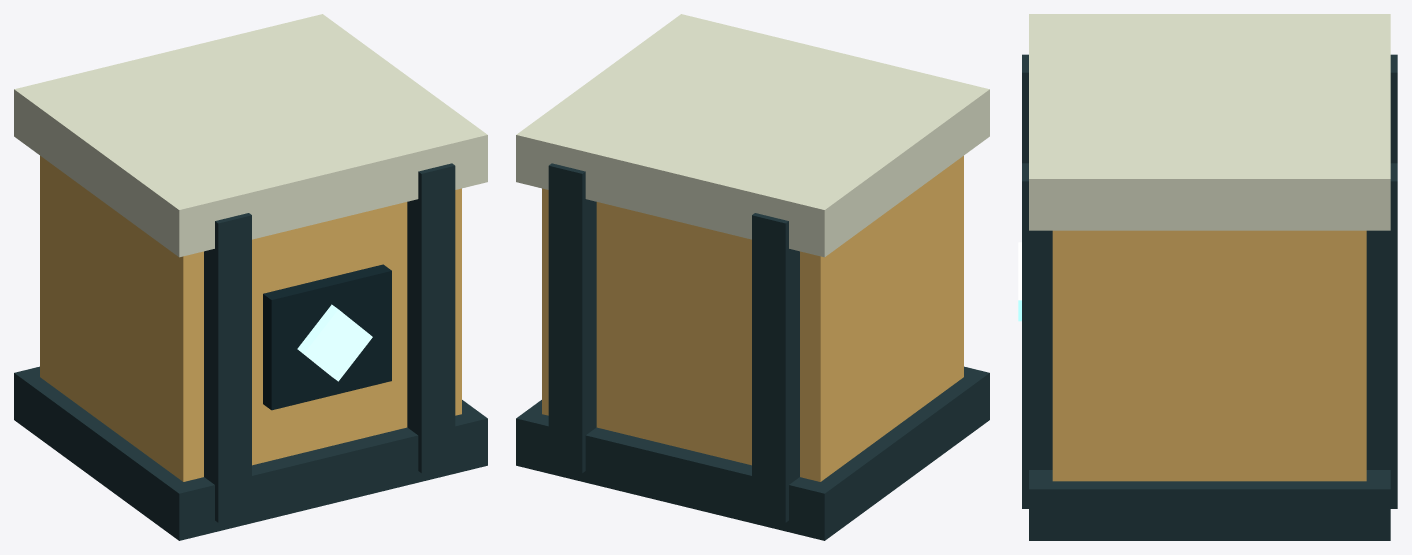
The model's file is cargo-crate.glb.
3 views of the same model, side by side, from view 1: azimuth 30°, elevation 25°; view 2: azimuth 150°, elevation 25°; view 3: azimuth 270°, elevation 25° (orthographic). The views are drawn at different scales.
Parts seen in each view (by area): view 1: lid, body, base, strap-1, strap--1, cargo-panel, cargo-mark; view 2: body, lid, base, strap-1, strap--1; view 3: body, lid, base, strap-1, strap--1.
Part boxes in pixels (x1,y1,x2,y2): lid: [14, 14, 487, 257]; body: [40, 156, 461, 481]; base: [14, 366, 487, 540]; strap-1: [407, 163, 455, 473]; strap--1: [204, 213, 251, 522]; cargo-panel: [263, 264, 391, 410]; cargo-mark: [297, 304, 372, 381]; body: [542, 156, 963, 481]; lid: [516, 14, 989, 257]; base: [516, 366, 989, 540]; strap-1: [548, 163, 596, 473]; strap--1: [752, 213, 799, 522]; body: [1052, 230, 1366, 481]; lid: [1029, 14, 1390, 230]; base: [1029, 470, 1390, 540]; strap-1: [1022, 163, 1397, 508]; strap--1: [1022, 54, 1397, 163].
Size of the model in its own units: 0.82 by 0.84 by 0.7975.
